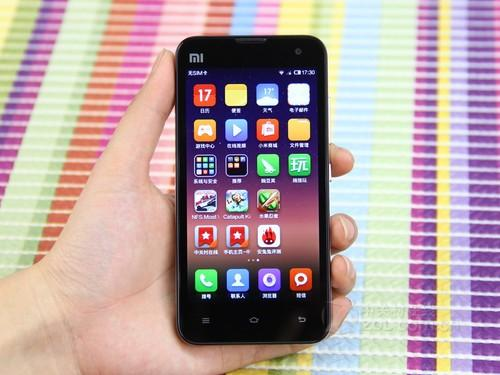phone: (171, 35, 335, 341)
